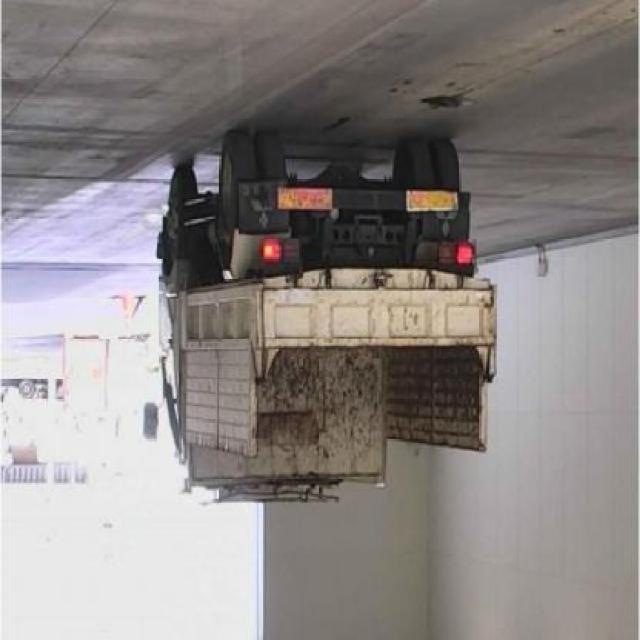truck: (142, 130, 503, 510)
